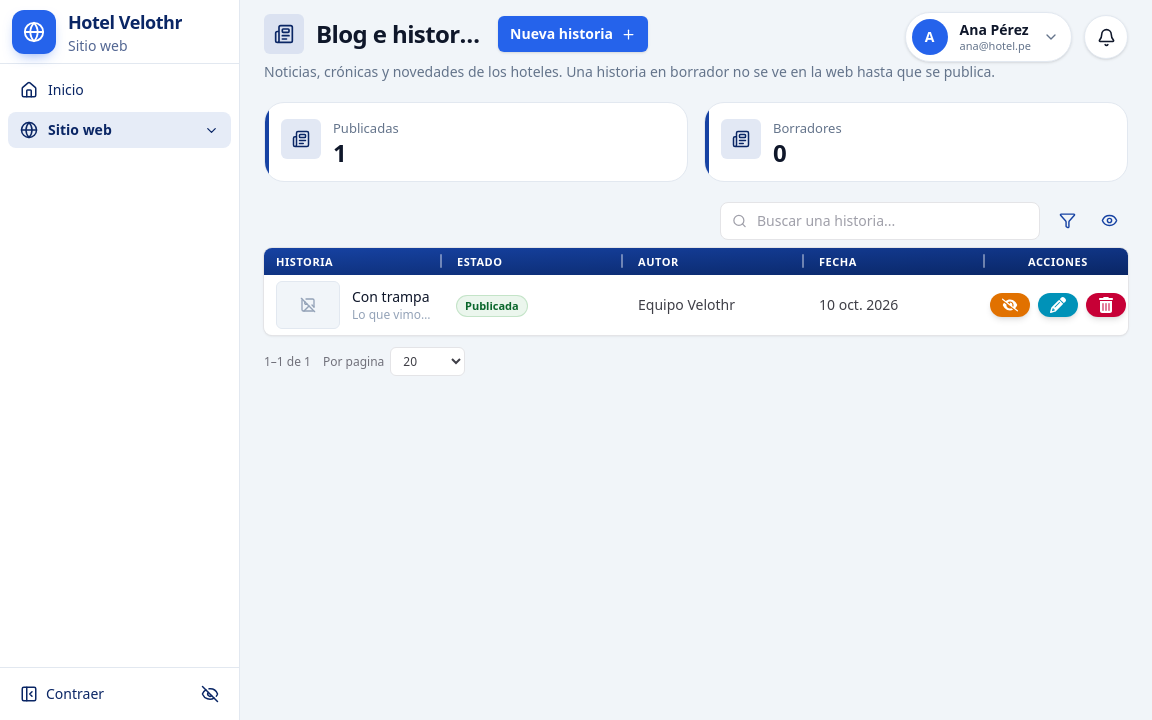
Scenario: el panel del sitio web › blog e historias › la vista previa muestra el formato y deja el HTML como texto
Click the button named "Editar Con trampa" at (1058, 305), box x1=1038 y1=293 x2=1078 y2=317
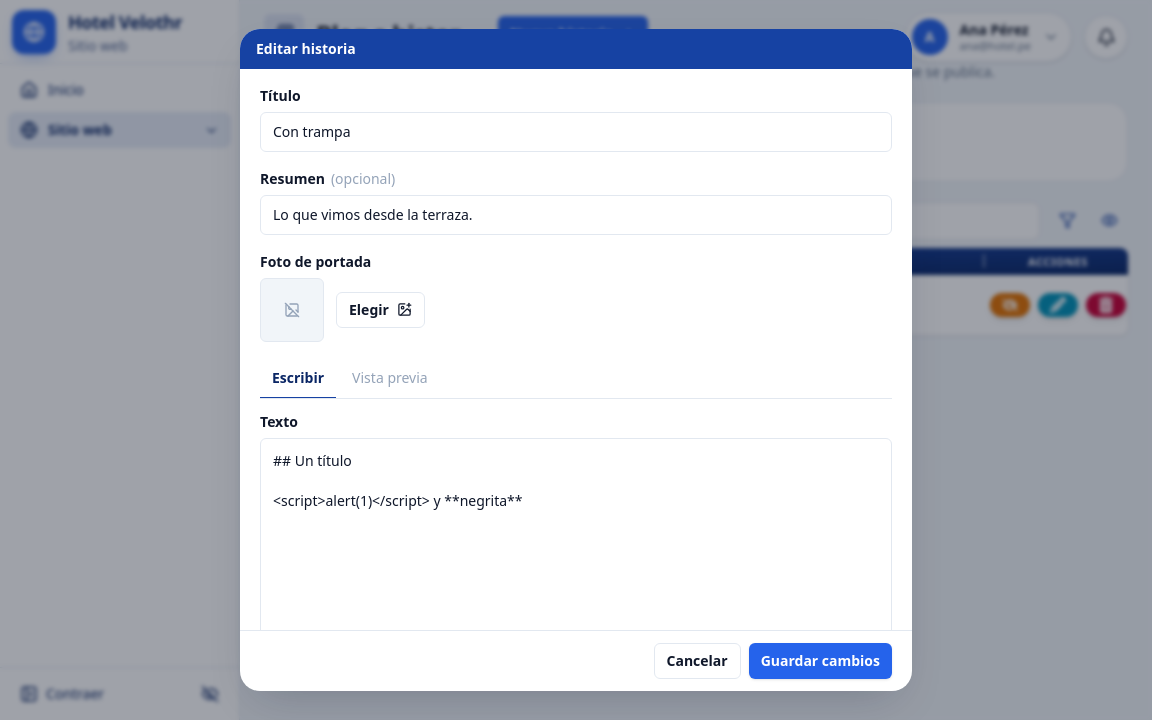
Expected: the field labelled "Título" is shown, x1=273 y1=122 x2=879 y2=142
Click the tab "Vista previa" at (390, 378), box x1=340 y1=358 x2=440 y2=398
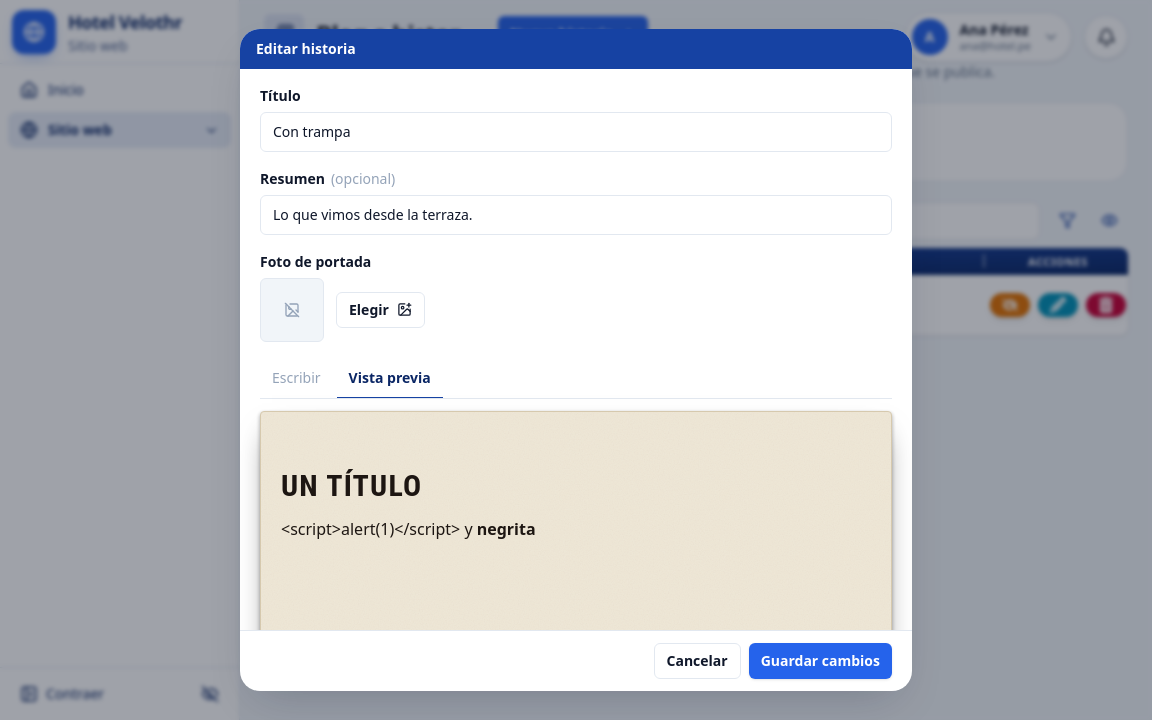
Expected: the heading "Un título" is shown, x1=281 y1=468 x2=422 y2=503
Expected: the text "<script>alert(1)</script> y negrita" is shown, x1=281 y1=518 x2=536 y2=540
